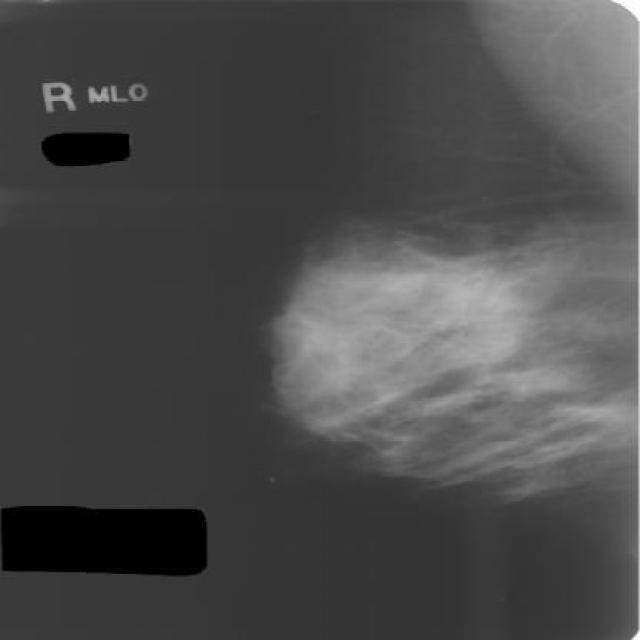tumor: (268, 212, 634, 497)
